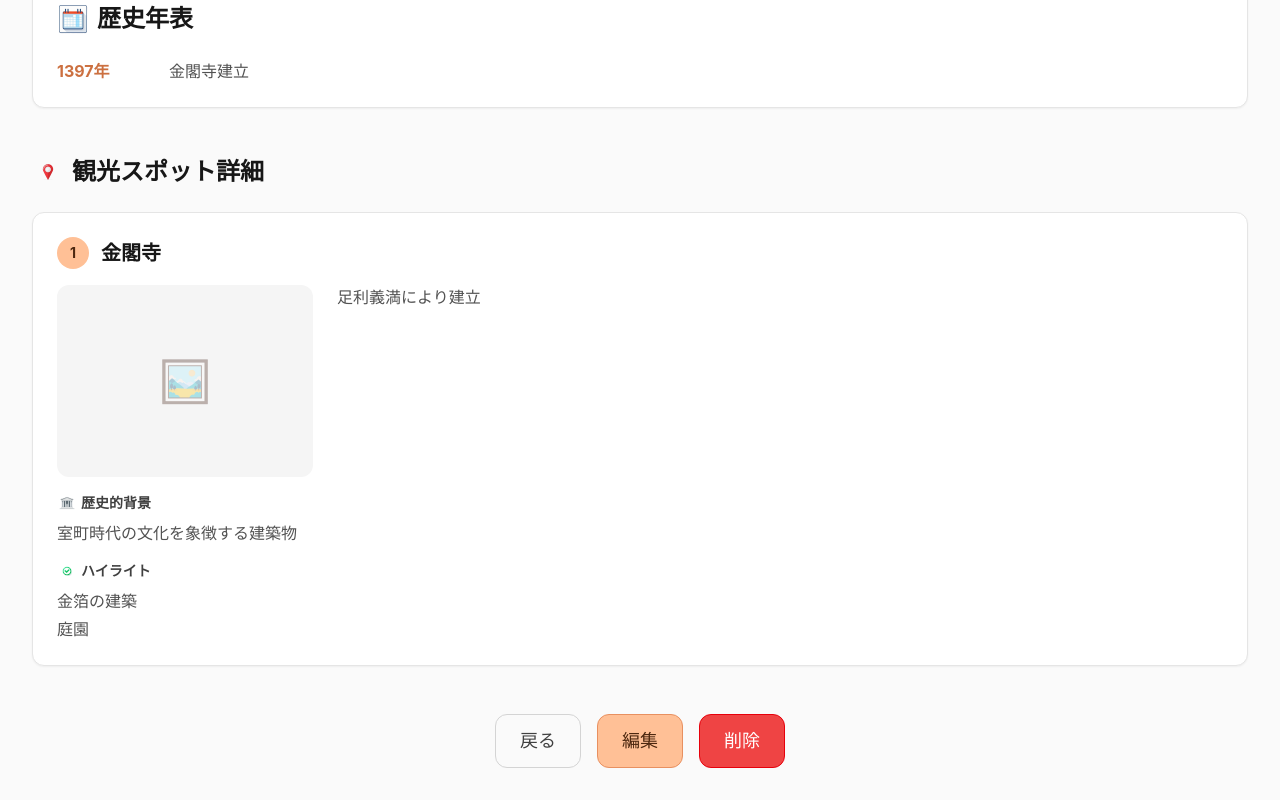
Test case: TravelGuidePage › 削除機能 › 削除ボタンをクリックすると確認モーダルが表示される
(page scrolled)
Click the button "削除" at [742, 741], box left=699, top=714, right=785, bottom=768
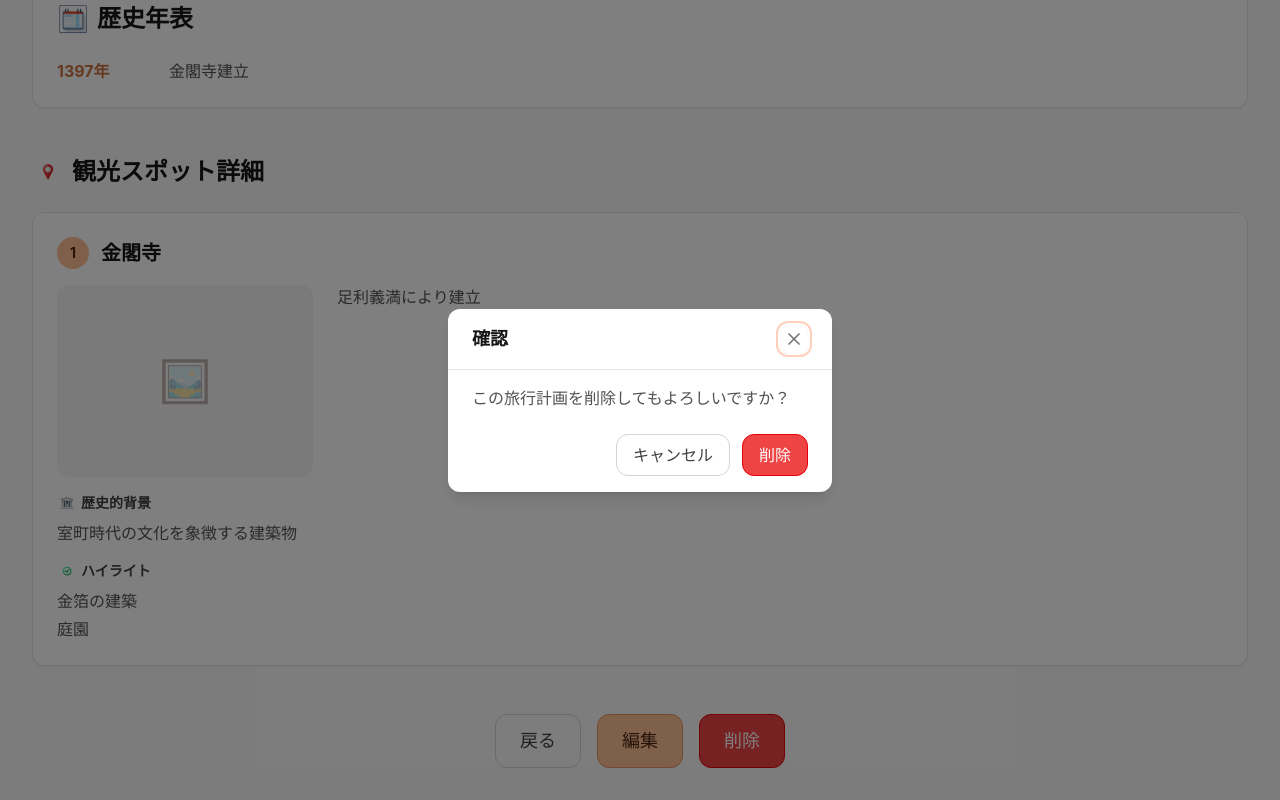
Expected: the text "この旅行計画を削除してもよろしいですか？" is shown, left=472, top=386, right=808, bottom=410
